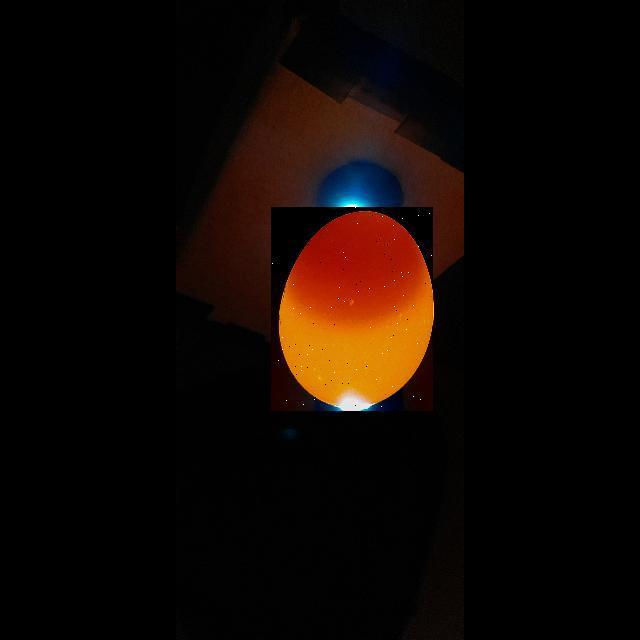Inedible: (267, 202, 437, 418)
